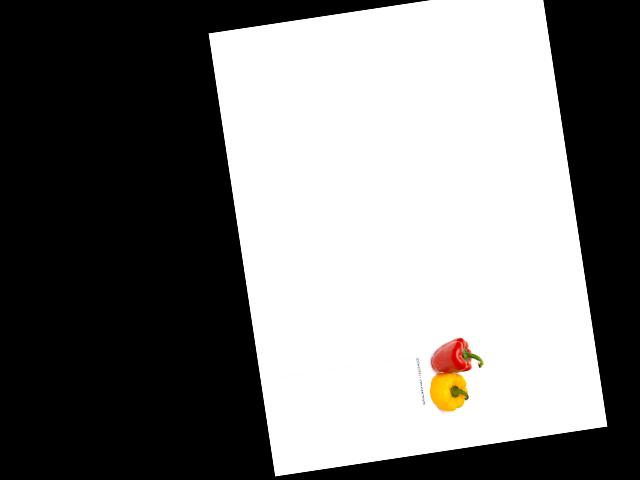bell_pepper: (423, 368, 473, 416)
